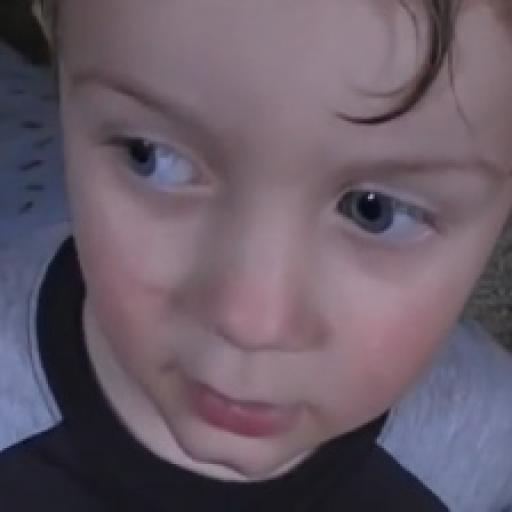Autism: (9, 0, 512, 464)
